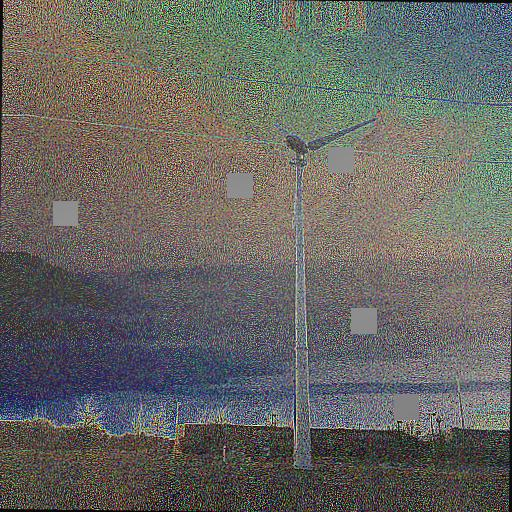wind turbine: (273, 116, 378, 472)
